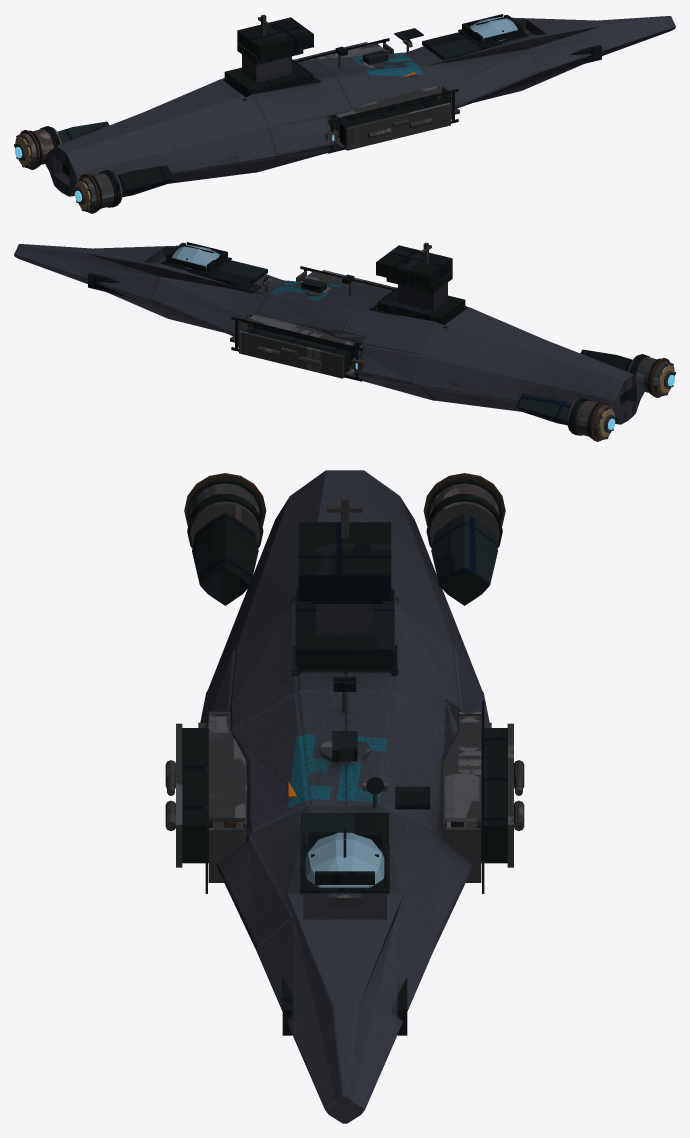
Rendered from bastion_production_v1_lod1.glb.
3 renders of one model, top to bottom at view 1: azimuth 30°, elevation 25°; view 2: azimuth 150°, elevation 25°; view 3: azimuth 270°, elevation 25°, orthographic. The views are drawn at different scales.
Parts seen in each view (by area): view 1: LOD1_Hull, LOD1_Armor, LOD1_Mechanical, LOD1_Canopy, LOD1_Radiator, LOD1_Ceramic; view 2: LOD1_Hull, LOD1_Armor, LOD1_Mechanical, LOD1_Canopy, LOD1_Ceramic, LOD1_Radiator; view 3: LOD1_Hull, LOD1_Armor, LOD1_Mechanical, LOD1_Canopy, LOD1_Radiator.
Part boxes in pixels (bbox=[...]): LOD1_Hull: bbox=[44, 16, 675, 196]; LOD1_Armor: bbox=[29, 14, 601, 210]; LOD1_Mechanical: bbox=[14, 14, 515, 211]; LOD1_Canopy: bbox=[469, 16, 517, 41]; LOD1_Radiator: bbox=[20, 106, 410, 213]; LOD1_Ceramic: bbox=[15, 137, 90, 209]; LOD1_Hull: bbox=[14, 244, 645, 424]; LOD1_Armor: bbox=[88, 242, 660, 438]; LOD1_Mechanical: bbox=[174, 242, 675, 439]; LOD1_Canopy: bbox=[172, 244, 220, 269]; LOD1_Ceramic: bbox=[599, 365, 674, 437]; LOD1_Radiator: bbox=[590, 358, 669, 441]; LOD1_Hull: bbox=[200, 470, 489, 1123]; LOD1_Armor: bbox=[182, 479, 507, 1035]; LOD1_Mechanical: bbox=[165, 483, 524, 906]; LOD1_Canopy: bbox=[305, 832, 384, 887]; LOD1_Radiator: bbox=[184, 473, 505, 827].
Size of what is drawn, in the model's own units: 18.05 by 4.02 by 4.5.
8 materials, 8 textured.
